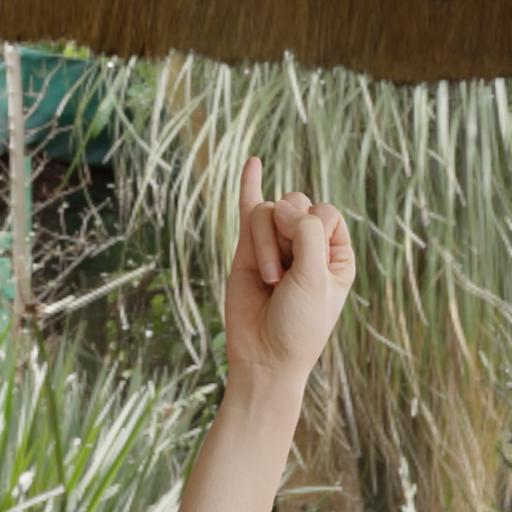I: (221, 153, 358, 380)
